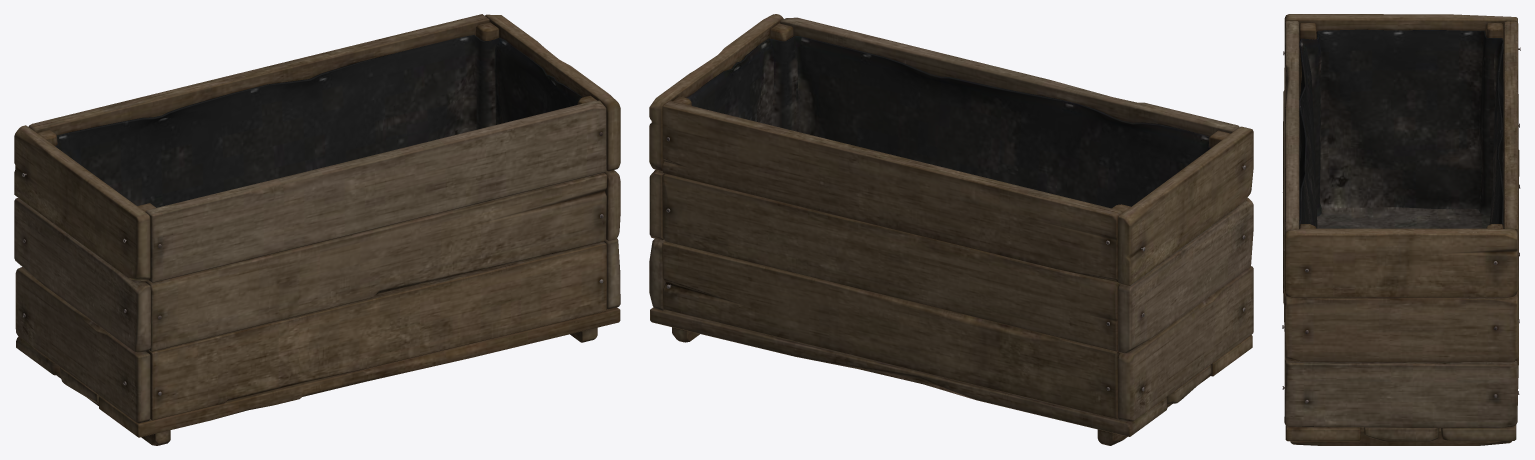
Rendered from planter_box_01.glb.
3 renders of one model, left to right at view 1: azimuth 30°, elevation 25°; view 2: azimuth 150°, elevation 25°; view 3: azimuth 270°, elevation 25°, orthographic. The views are drawn at different scales.
Parts seen in each view (by area): view 1: planter_box_01; view 2: planter_box_01; view 3: planter_box_01.
Part boxes in pixels (x1,y1,x2,y2): planter_box_01: [14, 14, 620, 445]; planter_box_01: [649, 14, 1253, 445]; planter_box_01: [1282, 14, 1520, 445].
Bounding box in the file's own units: 0.9126 × 0.425 × 0.4137.
1 material, 1 textured.
